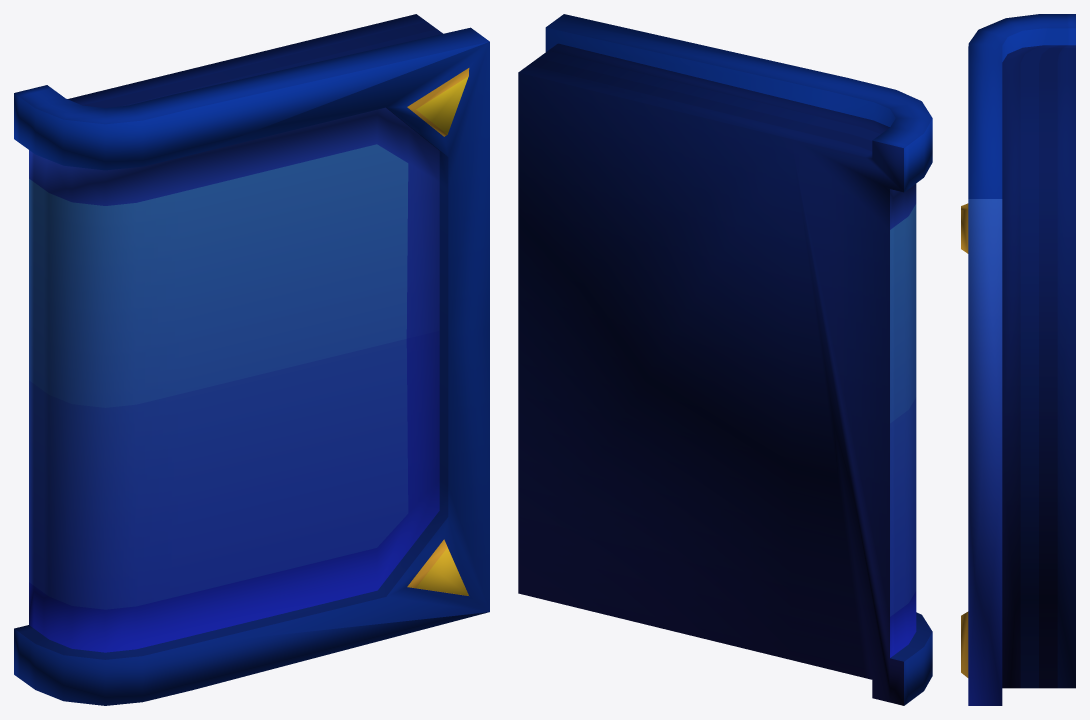
File: LivreDroite.fbx
3 views of the same model, side by side, from view 1: azimuth 30°, elevation 25°; view 2: azimuth 150°, elevation 25°; view 3: azimuth 270°, elevation 25° (orthographic). The views are drawn at different scales.
Parts seen in each view (by area): view 1: Livre_Droite; view 2: Livre_Droite; view 3: Livre_Droite.
Part boxes in pixels (x1,y1,x2,y2): Livre_Droite: (14,14,489,705); Livre_Droite: (518,14,932,705); Livre_Droite: (961,14,1075,705).
Bounding box in the file's own units: 1033 × 1382 × 278.
